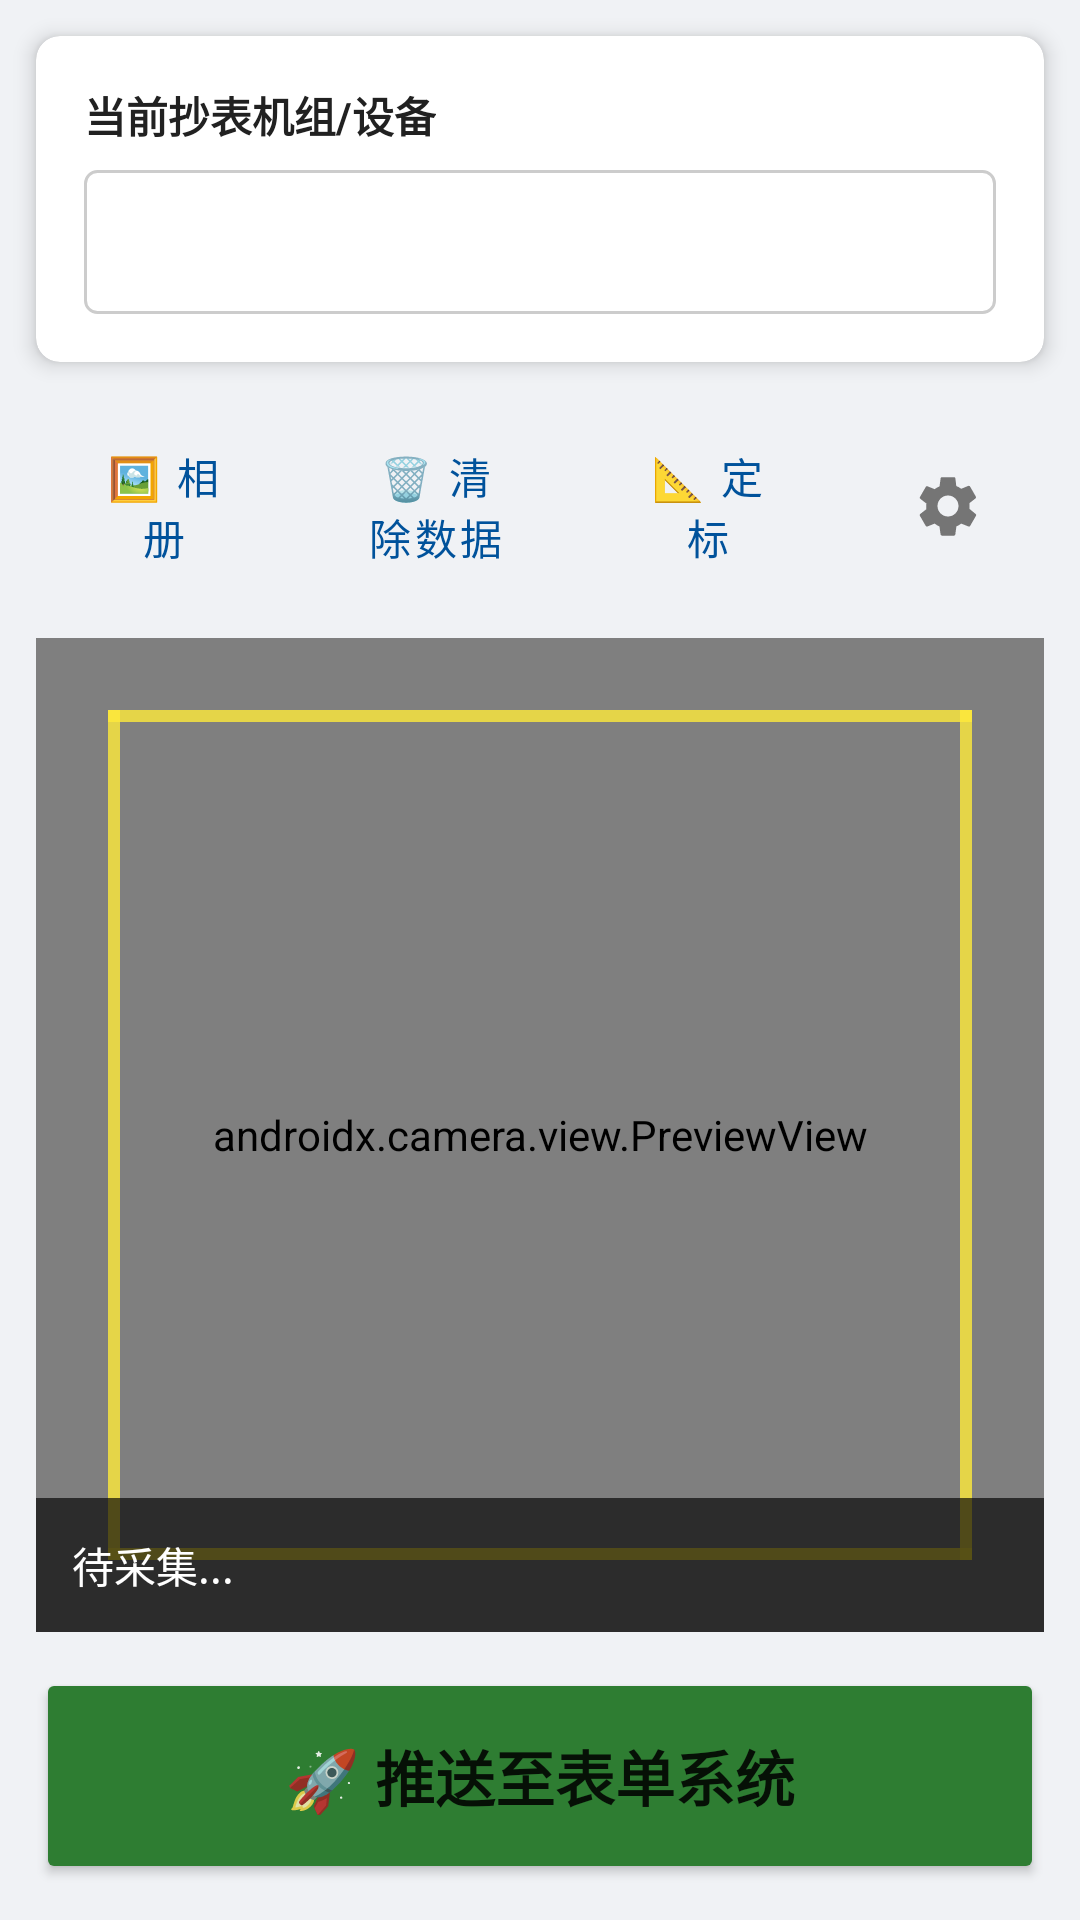

Where to tap for icons on this 1080w x 1920h app screen, as point (x, y):
预设配置: point (948, 506)
